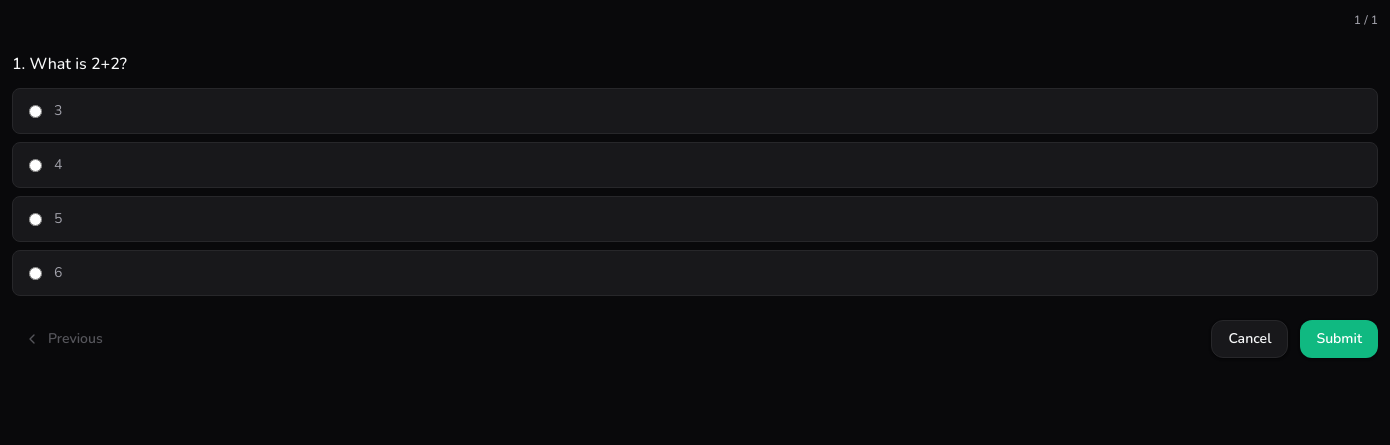
AssessmentTaker › shows error when submitting without all answers
Click the button "Submit": (1339, 339) [1300, 320, 1378, 358]
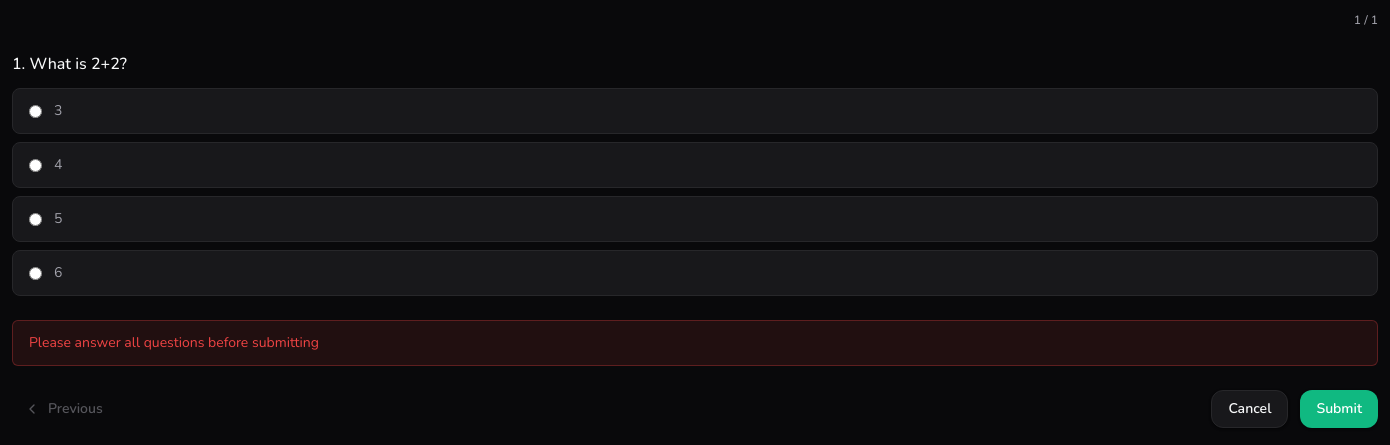
Now the text "Please answer all questions before submitting" is shown, box [12, 320, 1378, 366]
